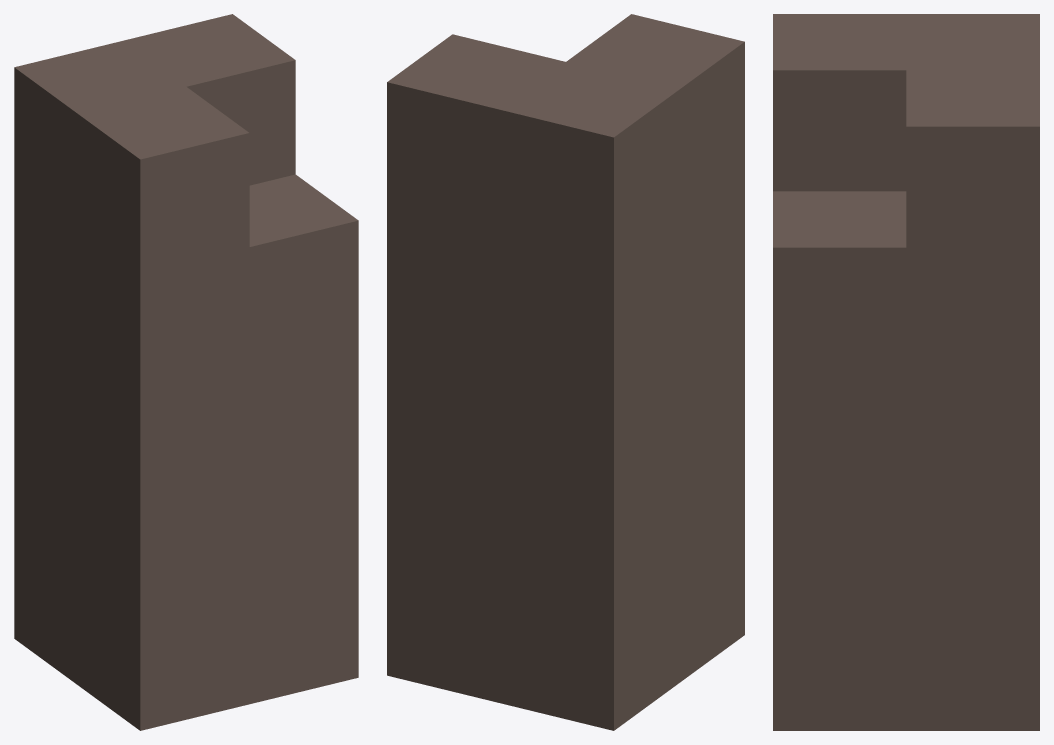
File: lamb__leg_br.glb
3 renders of one model, left to right at view 1: azimuth 30°, elevation 25°; view 2: azimuth 150°, elevation 25°; view 3: azimuth 270°, elevation 25°, orthographic. The views are drawn at different scales.
Visible parts, largest first — view 1: lamb__leg_br; view 2: lamb__leg_br; view 3: lamb__leg_br.
Part boxes in pixels (<box>): lamb__leg_br: <box>14,14,358,730</box>; lamb__leg_br: <box>387,14,744,730</box>; lamb__leg_br: <box>773,14,1039,730</box>.
Bounding box in the file's own units: 0.2 × 0.5 × 0.2.
1 material, 1 textured.
